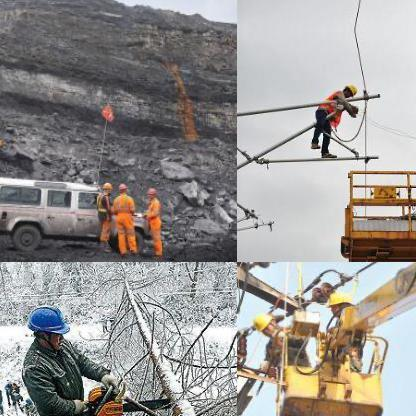Helmet: (23, 301, 69, 347), (326, 286, 354, 322), (250, 309, 276, 335), (340, 79, 356, 97), (100, 179, 113, 195), (144, 186, 156, 200), (116, 180, 128, 194)
